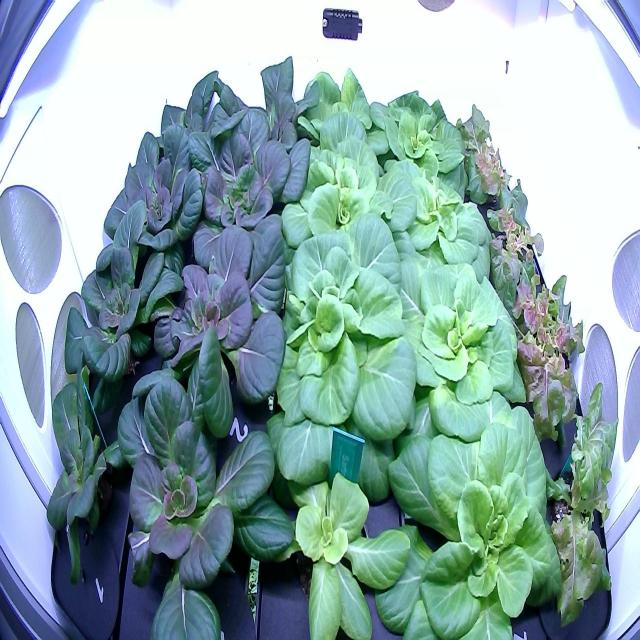young: (96, 315, 318, 637), (232, 205, 432, 514), (363, 362, 568, 640), (126, 186, 327, 429), (235, 432, 415, 638), (367, 245, 534, 454), (21, 351, 156, 595), (50, 198, 190, 406), (263, 112, 422, 265), (352, 140, 500, 304), (185, 99, 324, 252), (88, 118, 214, 274), (353, 68, 474, 218), (129, 55, 251, 195), (271, 53, 395, 178), (202, 48, 321, 177)
